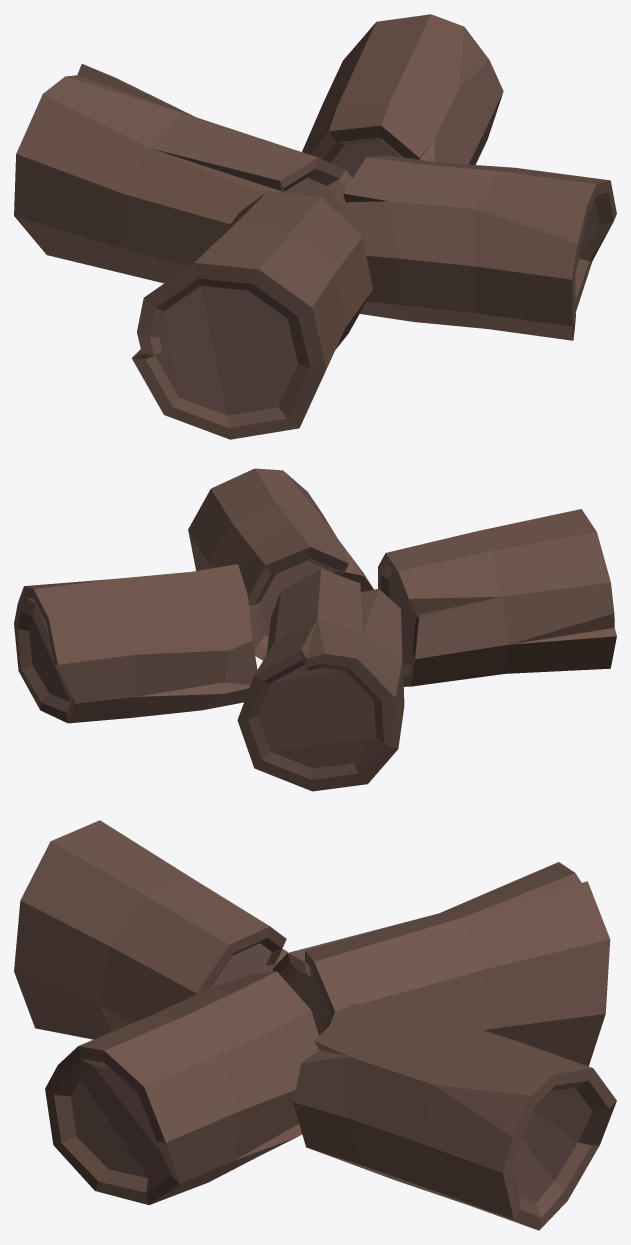
Rendered from bonfire.glb.
The picture shows the model from 3 angles, top to bottom: view 1: azimuth 30°, elevation 25°; view 2: azimuth 150°, elevation 25°; view 3: azimuth 270°, elevation 25°; orthographic projection. The views are drawn at different scales.
Visible parts, largest first — view 1: Bonfire; view 2: Bonfire; view 3: Bonfire.
Part boxes in pixels (<box>): Bonfire: <box>14,14,616,439</box>; Bonfire: <box>14,468,616,791</box>; Bonfire: <box>14,820,616,1230</box>.
Size of the model in its own units: 2.18 by 0.6757 by 1.98.
